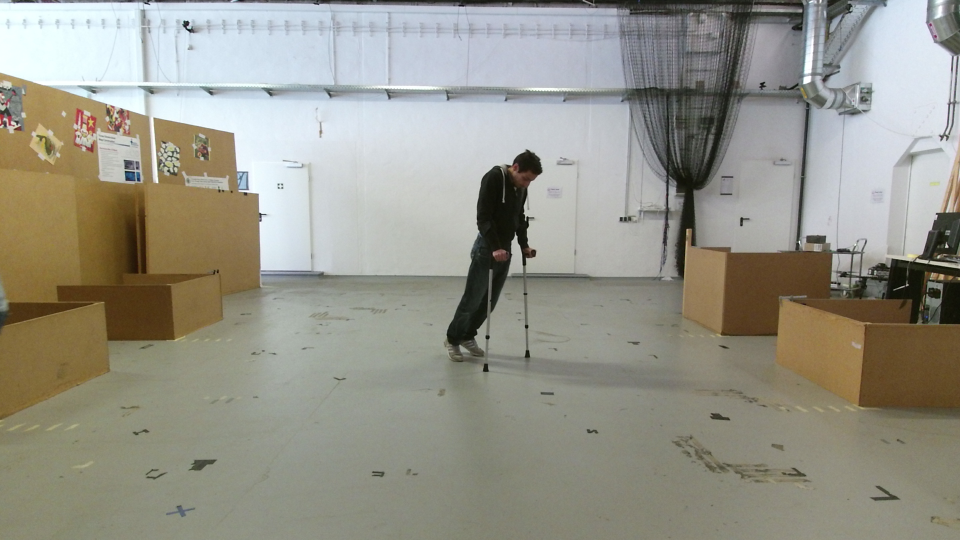crutches: (441, 146, 544, 373)
